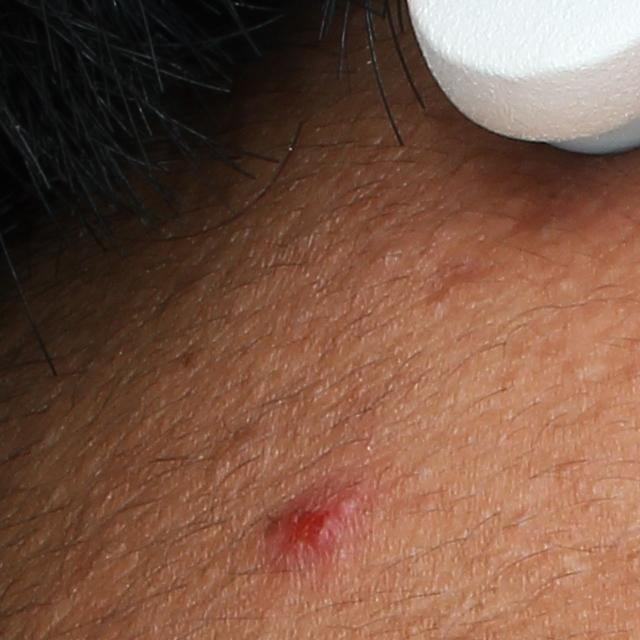comedo: (560, 355, 606, 381), (369, 238, 400, 264), (549, 271, 578, 298)
papule: (260, 494, 348, 580)
